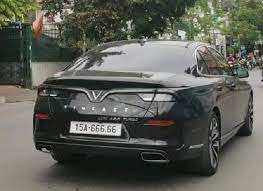Car number plates: (70, 120, 121, 136)
